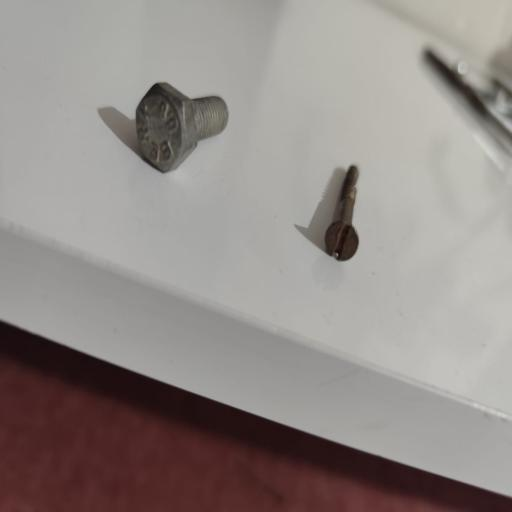Hex-Allen: (130, 80, 196, 174)
Slotted: (321, 222, 362, 263)
